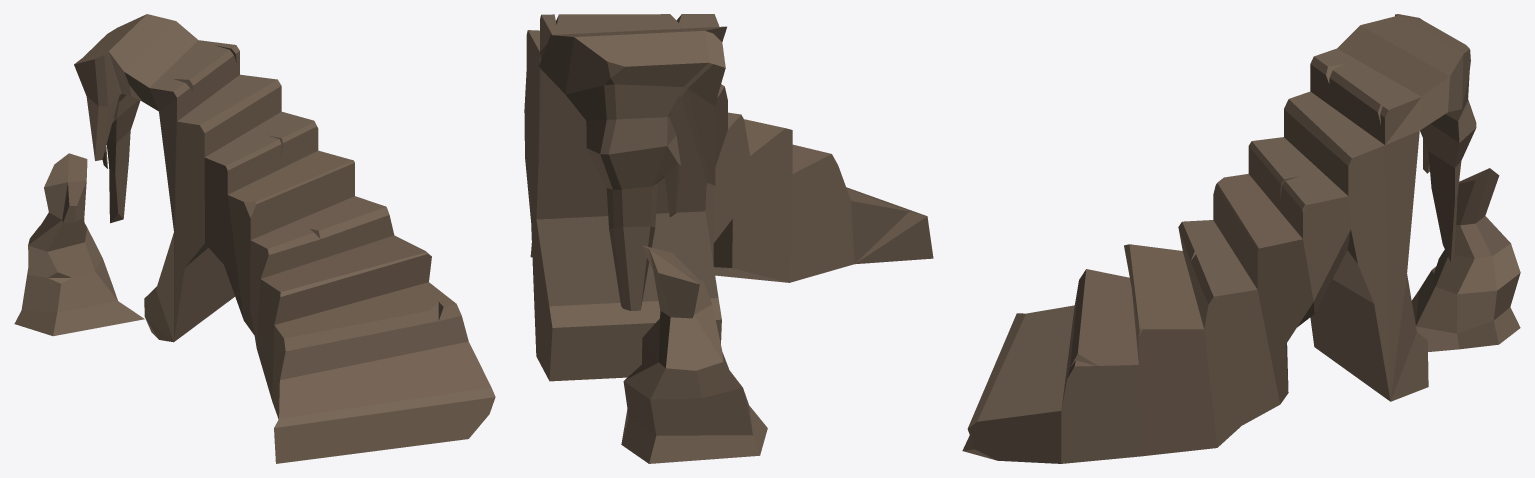
File: Staircase.fbx
The picture shows the model from 3 angles, left to right: view 1: azimuth 30°, elevation 25°; view 2: azimuth 150°, elevation 25°; view 3: azimuth 270°, elevation 25°; orthographic projection. The views are drawn at different scales.
Parts seen in each view (by area): view 1: Staircase; view 2: Staircase; view 3: Staircase.
Part boxes in pixels (<box>): Staircase: <box>14,14,495,463</box>; Staircase: <box>524,14,933,463</box>; Staircase: <box>962,14,1520,463</box>.
Bounding box in the file's own units: 1537 × 1518 × 2273.
